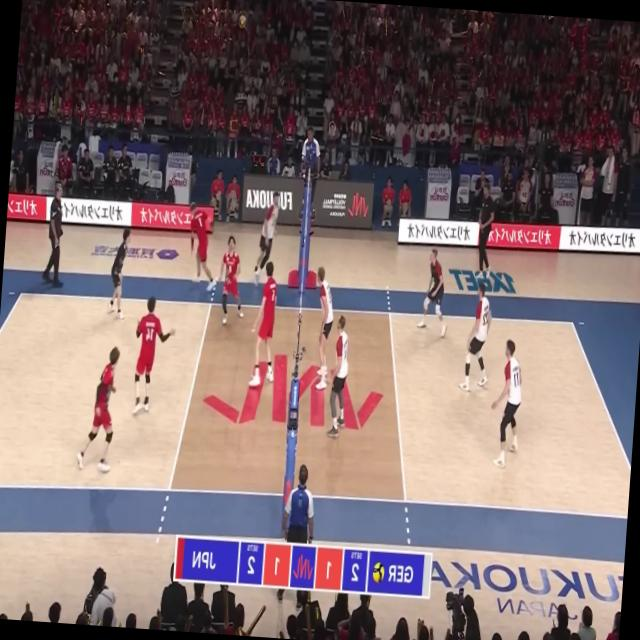referee: (272, 462, 319, 606)
team_one: (486, 338, 526, 468), (306, 268, 340, 390), (458, 281, 493, 394), (416, 248, 452, 340), (324, 316, 351, 438), (251, 190, 281, 284)
team_two: (75, 342, 121, 474), (130, 296, 177, 418), (246, 260, 281, 390), (183, 201, 221, 293), (215, 234, 249, 326), (105, 228, 132, 319)
